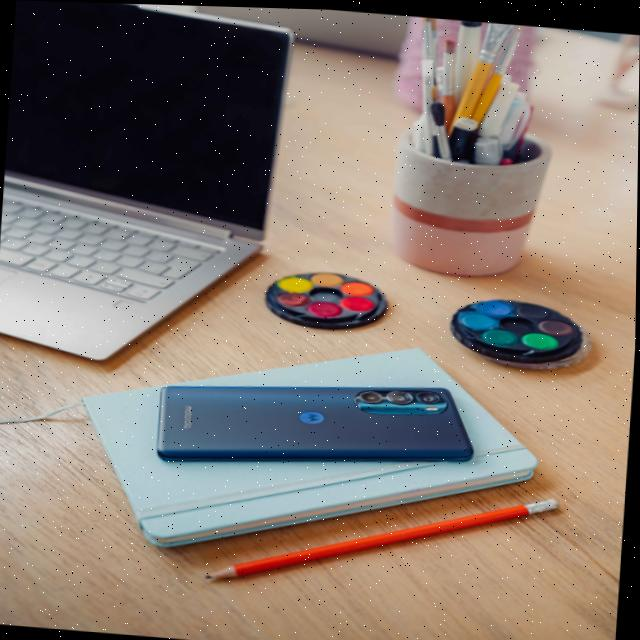pencil: (192, 489, 577, 586)
